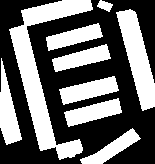parkingspot: (9, 24, 56, 150), (116, 9, 155, 110), (80, 128, 140, 164), (21, 0, 92, 26), (0, 58, 21, 144), (59, 76, 118, 104), (64, 98, 121, 126), (52, 44, 110, 71), (46, 23, 102, 50), (55, 139, 82, 159), (97, 0, 112, 11)
